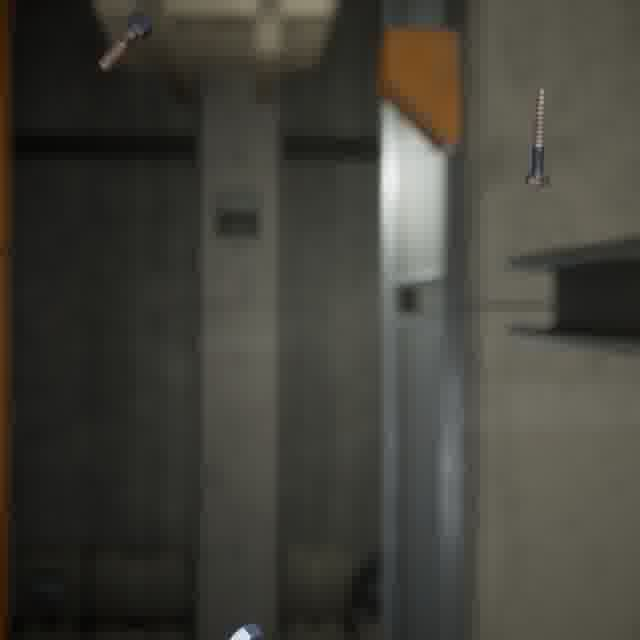bolt: (94, 7, 158, 75), (520, 80, 553, 192)
